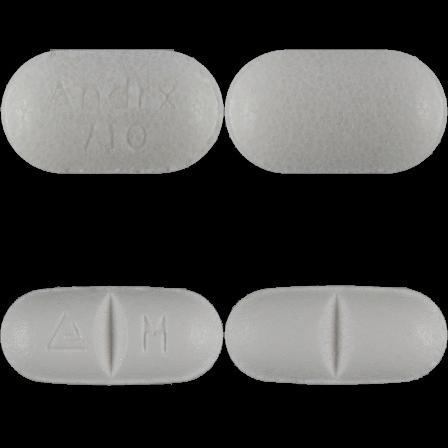62037-710: (0, 0, 224, 224)
